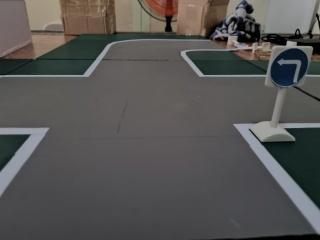left: (267, 45, 312, 92)
